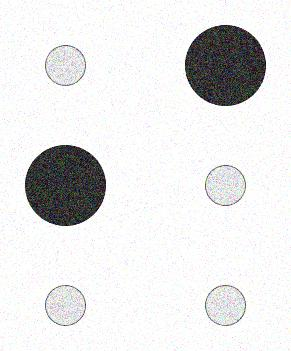I: (19, 19, 273, 333)
